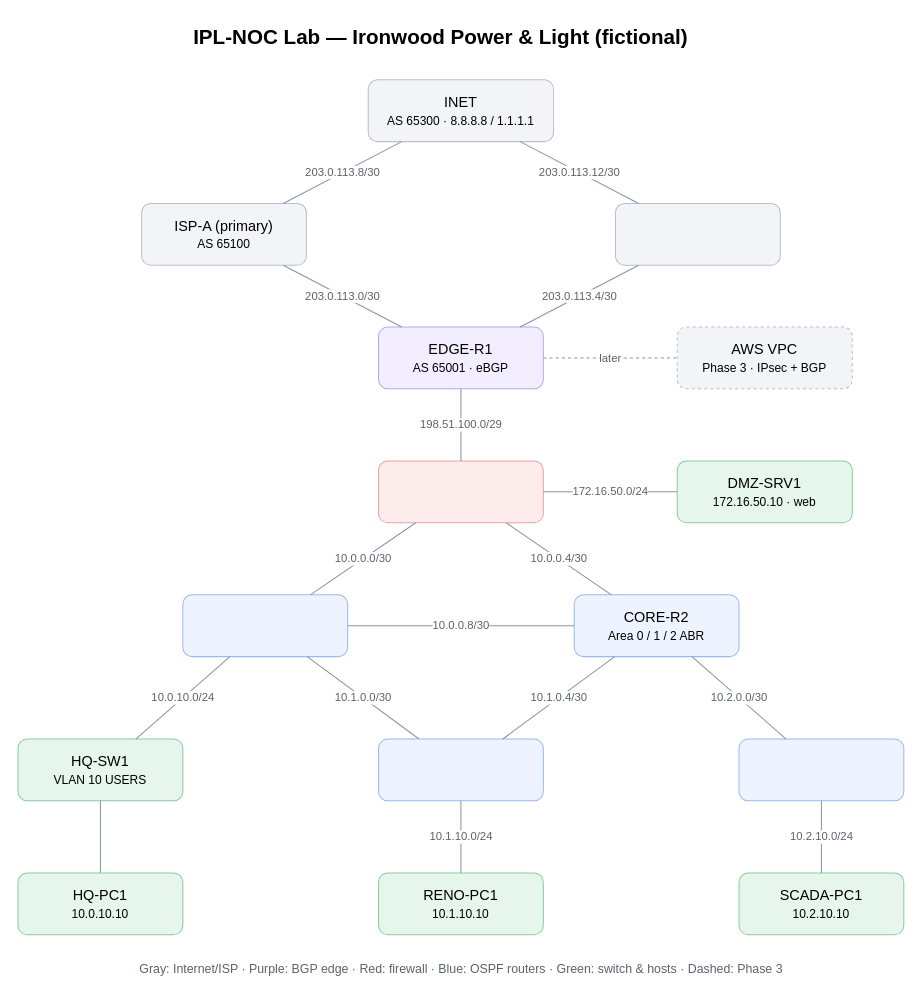
Some shapes in this 922 by 1003 pixel diagram are drawn without their labels. Here are the shapes that lost their labels. From the top down, the centre of each, then its label:
the point at 697,233: ISP-B (backup) AS 65200
the point at 460,491: FW1 (ASAv) Palo Alto stand-in
the point at 265,625: CORE-R1 Area 0 / 1 ABR
the point at 460,769: RENO-R1 OSPF area 1
the point at 821,769: SUB-R1 OSPF area 2
